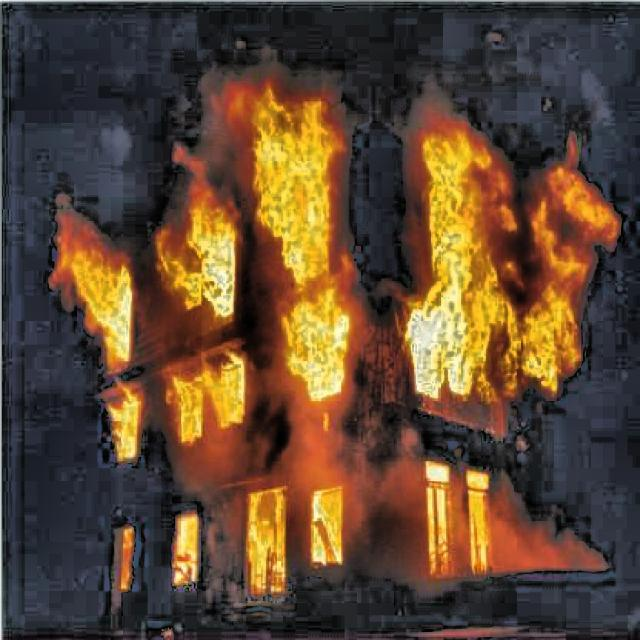Fire: (407, 116, 616, 406), (228, 78, 350, 399), (49, 193, 132, 369), (157, 146, 234, 316), (167, 350, 247, 441), (244, 486, 285, 595), (105, 382, 137, 458)
